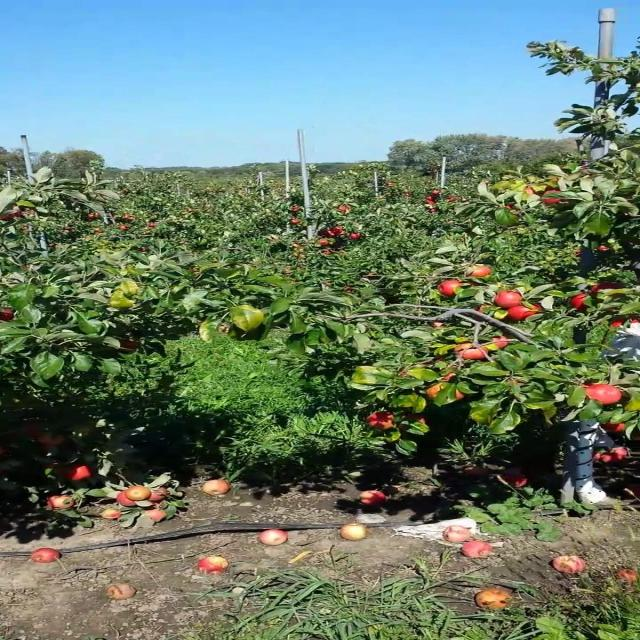apple: (586, 384, 622, 405), (56, 464, 93, 481), (453, 342, 487, 359), (367, 411, 396, 430), (542, 186, 569, 206), (507, 305, 540, 321), (493, 290, 522, 308), (36, 432, 67, 446), (124, 485, 151, 501), (589, 282, 624, 294), (47, 495, 76, 509), (22, 418, 42, 438), (438, 280, 462, 296), (569, 292, 589, 311), (424, 382, 446, 399), (140, 508, 166, 522), (462, 465, 489, 478), (467, 265, 491, 278), (116, 491, 136, 506), (487, 336, 509, 349), (120, 338, 140, 351), (602, 422, 627, 432), (402, 414, 427, 424), (476, 302, 496, 314), (0, 308, 16, 321), (609, 318, 627, 328), (44, 462, 62, 469), (453, 390, 464, 399), (629, 318, 640, 322)
